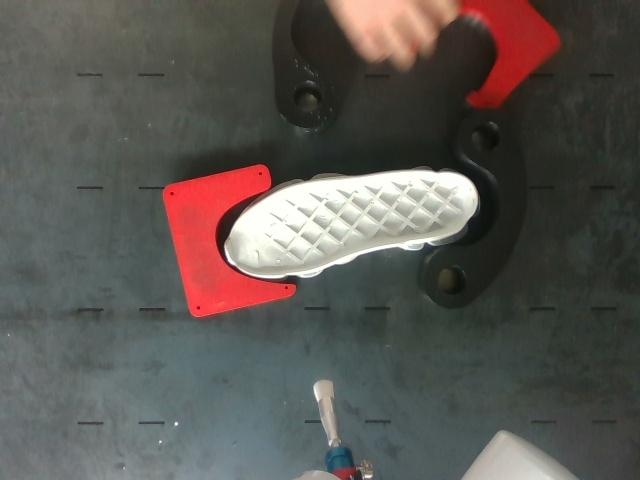shoes: (227, 171, 478, 276)
